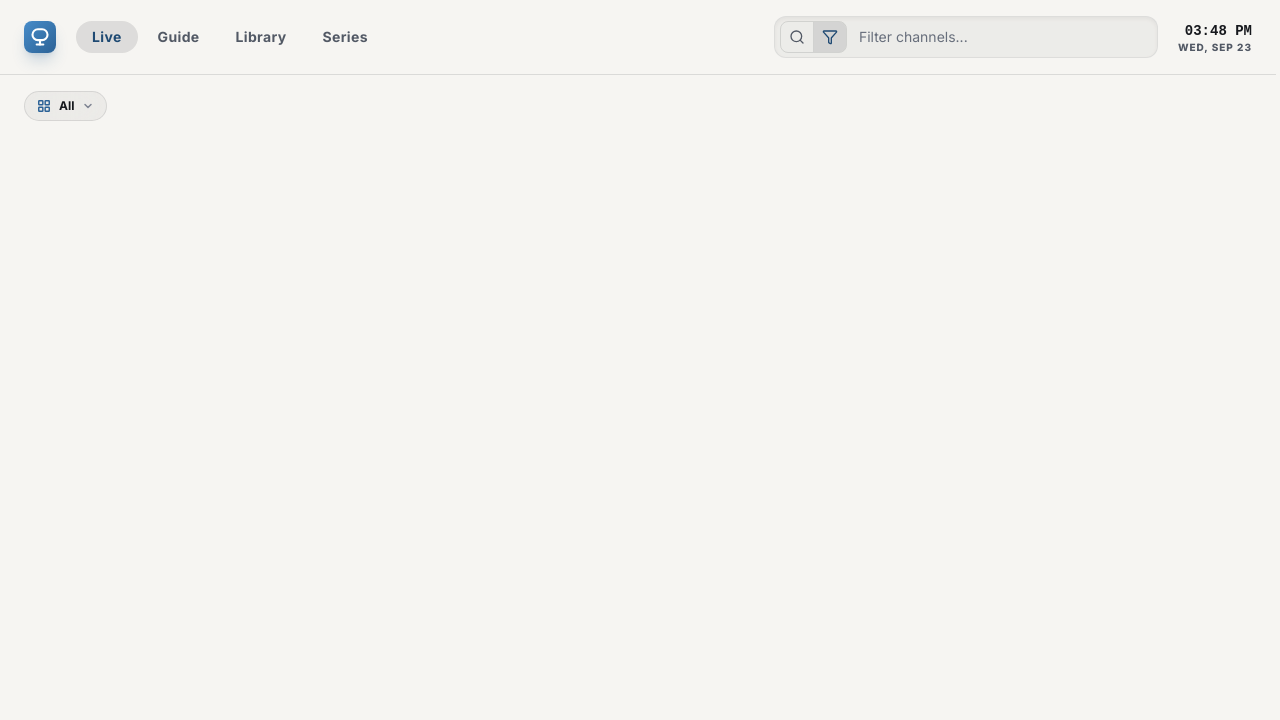
Test: the app menu gear opens the settings modal
Click the button named "tablo-web menu": (40, 37) [20, 17, 60, 57]
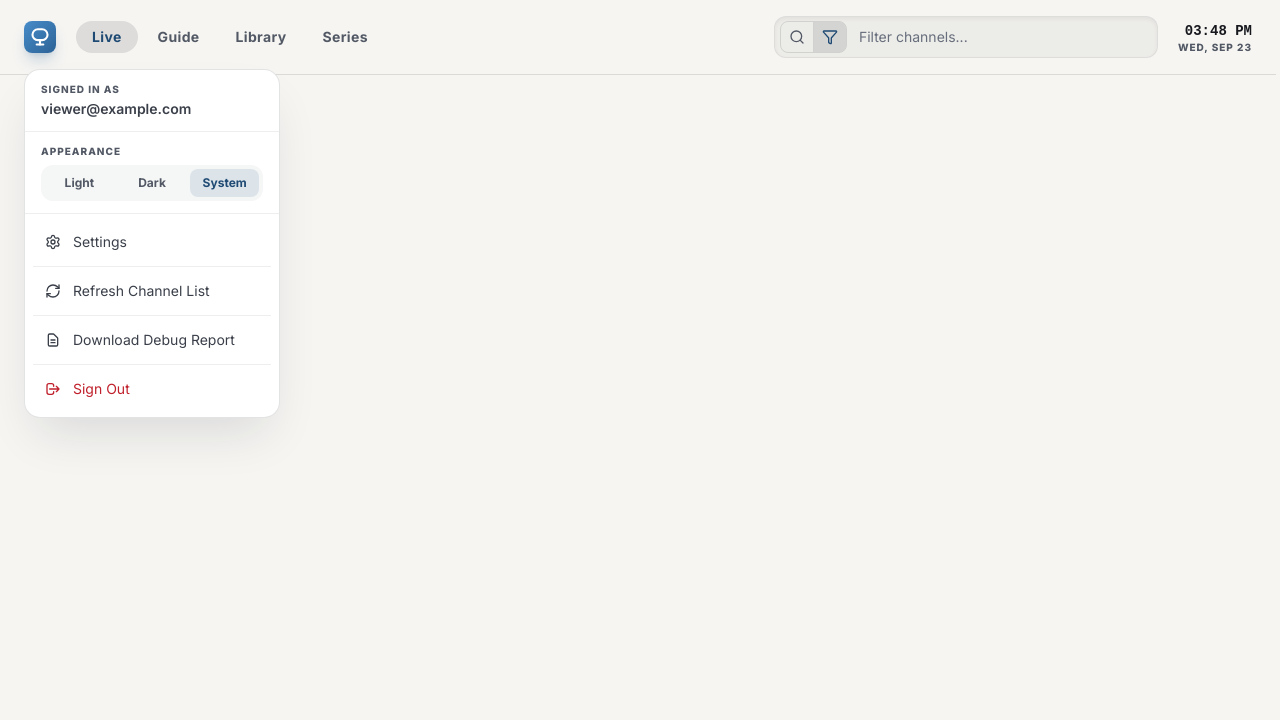
Click the button "Settings": (152, 242) [33, 222, 271, 262]
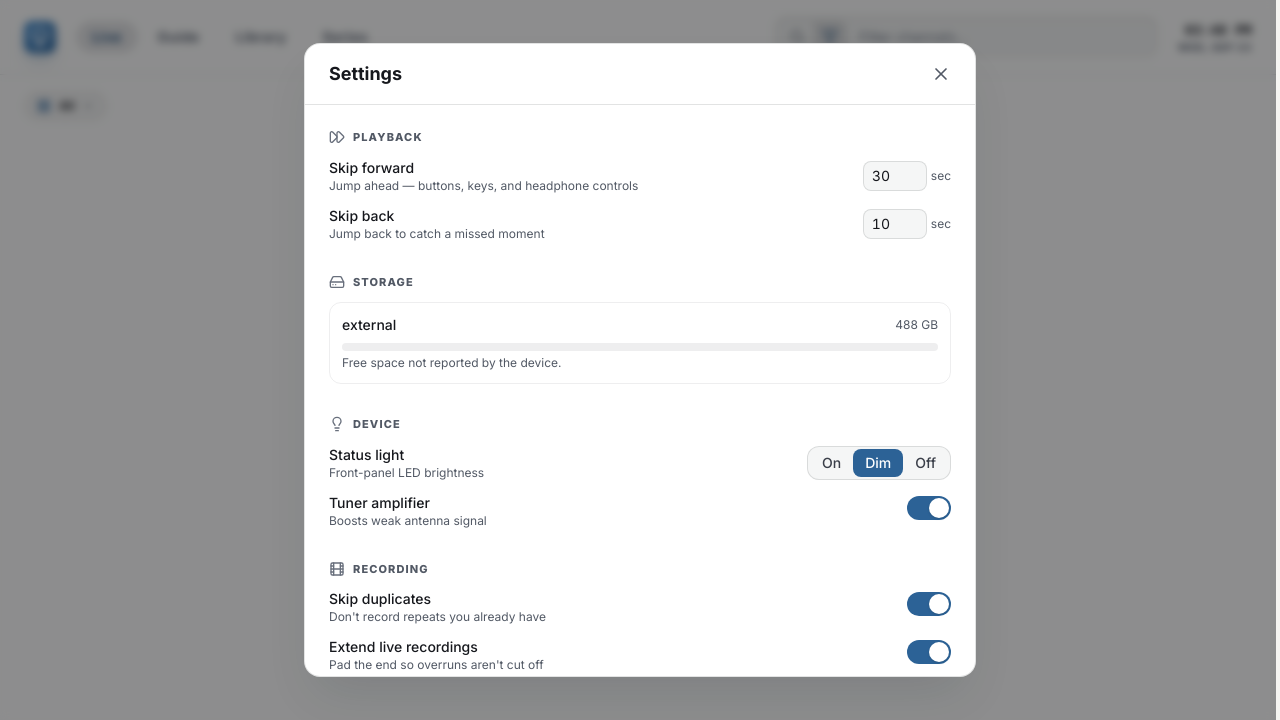
Check: the dialog "Settings" is shown
